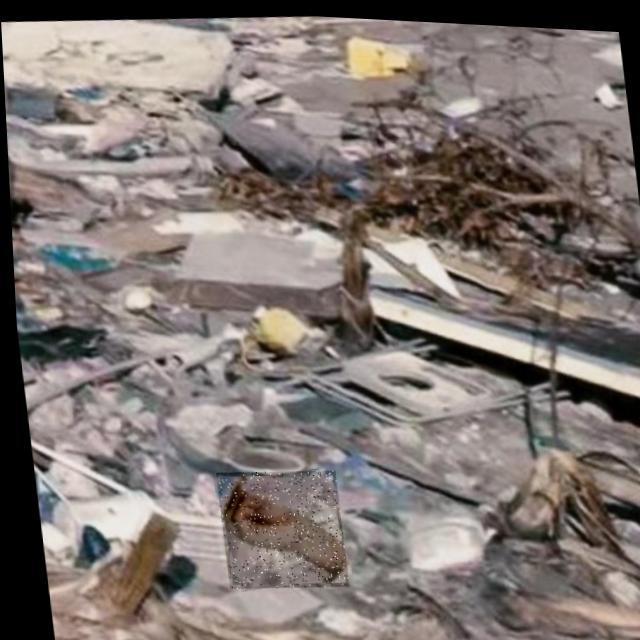Person in Rubble: (210, 462, 343, 591)
